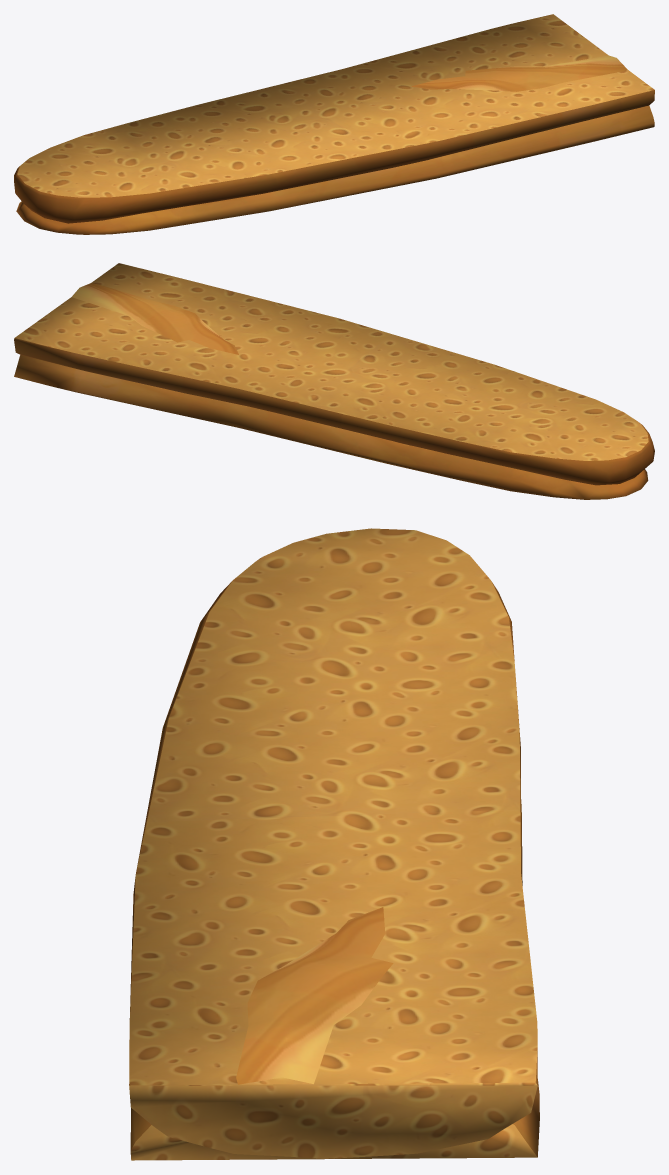
File: ekmek2.fbx
3 renders of one model, top to bottom at view 1: azimuth 30°, elevation 25°; view 2: azimuth 150°, elevation 25°; view 3: azimuth 270°, elevation 25°, orthographic. The views are drawn at different scales.
Parts seen in each view (by area): view 1: ekmek2_alt, ekmek2_ust; view 2: ekmek2_alt, ekmek2_ust; view 3: ekmek2_alt, ekmek2_ust.
Boxes of the visible parts, box(x1,y1,x2,y2) form: ekmek2_alt: box(14, 14, 654, 223); ekmek2_ust: box(16, 55, 654, 234); ekmek2_alt: box(14, 263, 654, 485); ekmek2_ust: box(14, 283, 648, 499); ekmek2_alt: box(129, 528, 537, 1158); ekmek2_ust: box(130, 799, 539, 1160).
Size of the model in its own units: 69.02 by 5 by 21.52.
